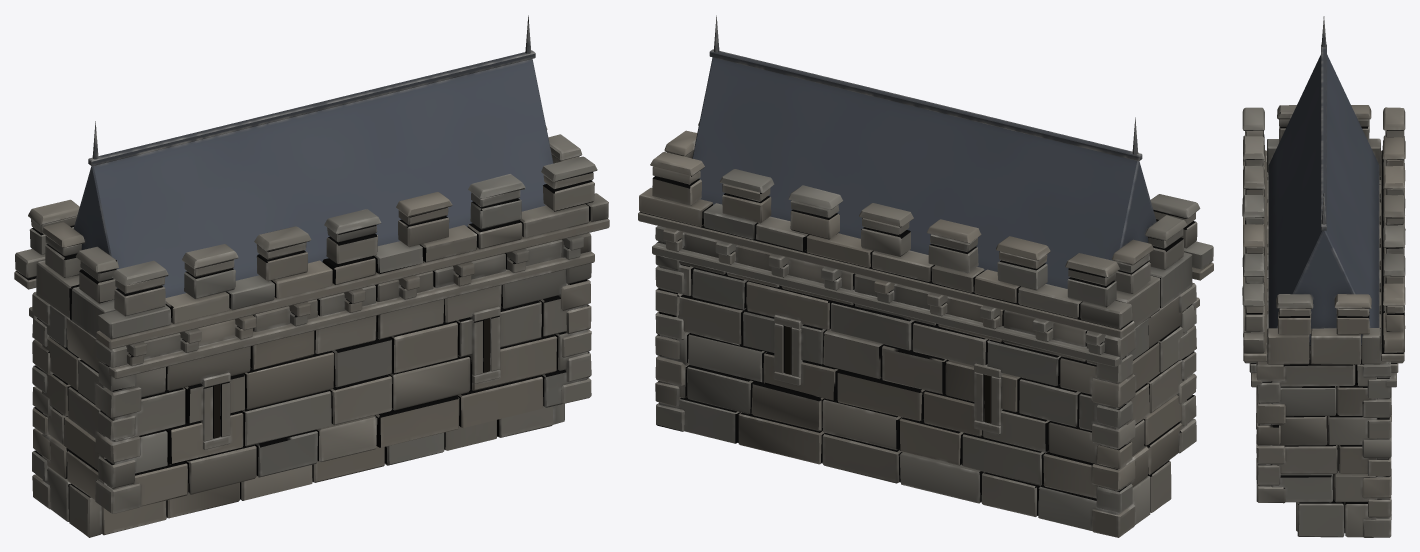
The model's file is gallows_gatehouse.glb.
3 renders of one model, left to right at view 1: azimuth 30°, elevation 25°; view 2: azimuth 150°, elevation 25°; view 3: azimuth 270°, elevation 25°, orthographic. The views are drawn at different scales.
Visible parts, largest first — view 1: gallows_gatehouse; view 2: gallows_gatehouse; view 3: gallows_gatehouse.
Part boxes in pixels (x1,y1,x2,y2): gallows_gatehouse: (14,15,609,537); gallows_gatehouse: (638,15,1213,537); gallows_gatehouse: (1242,16,1405,537).
Size of the model in its own units: 12.6 by 9.7 by 4.25.
1 material, 1 textured.
